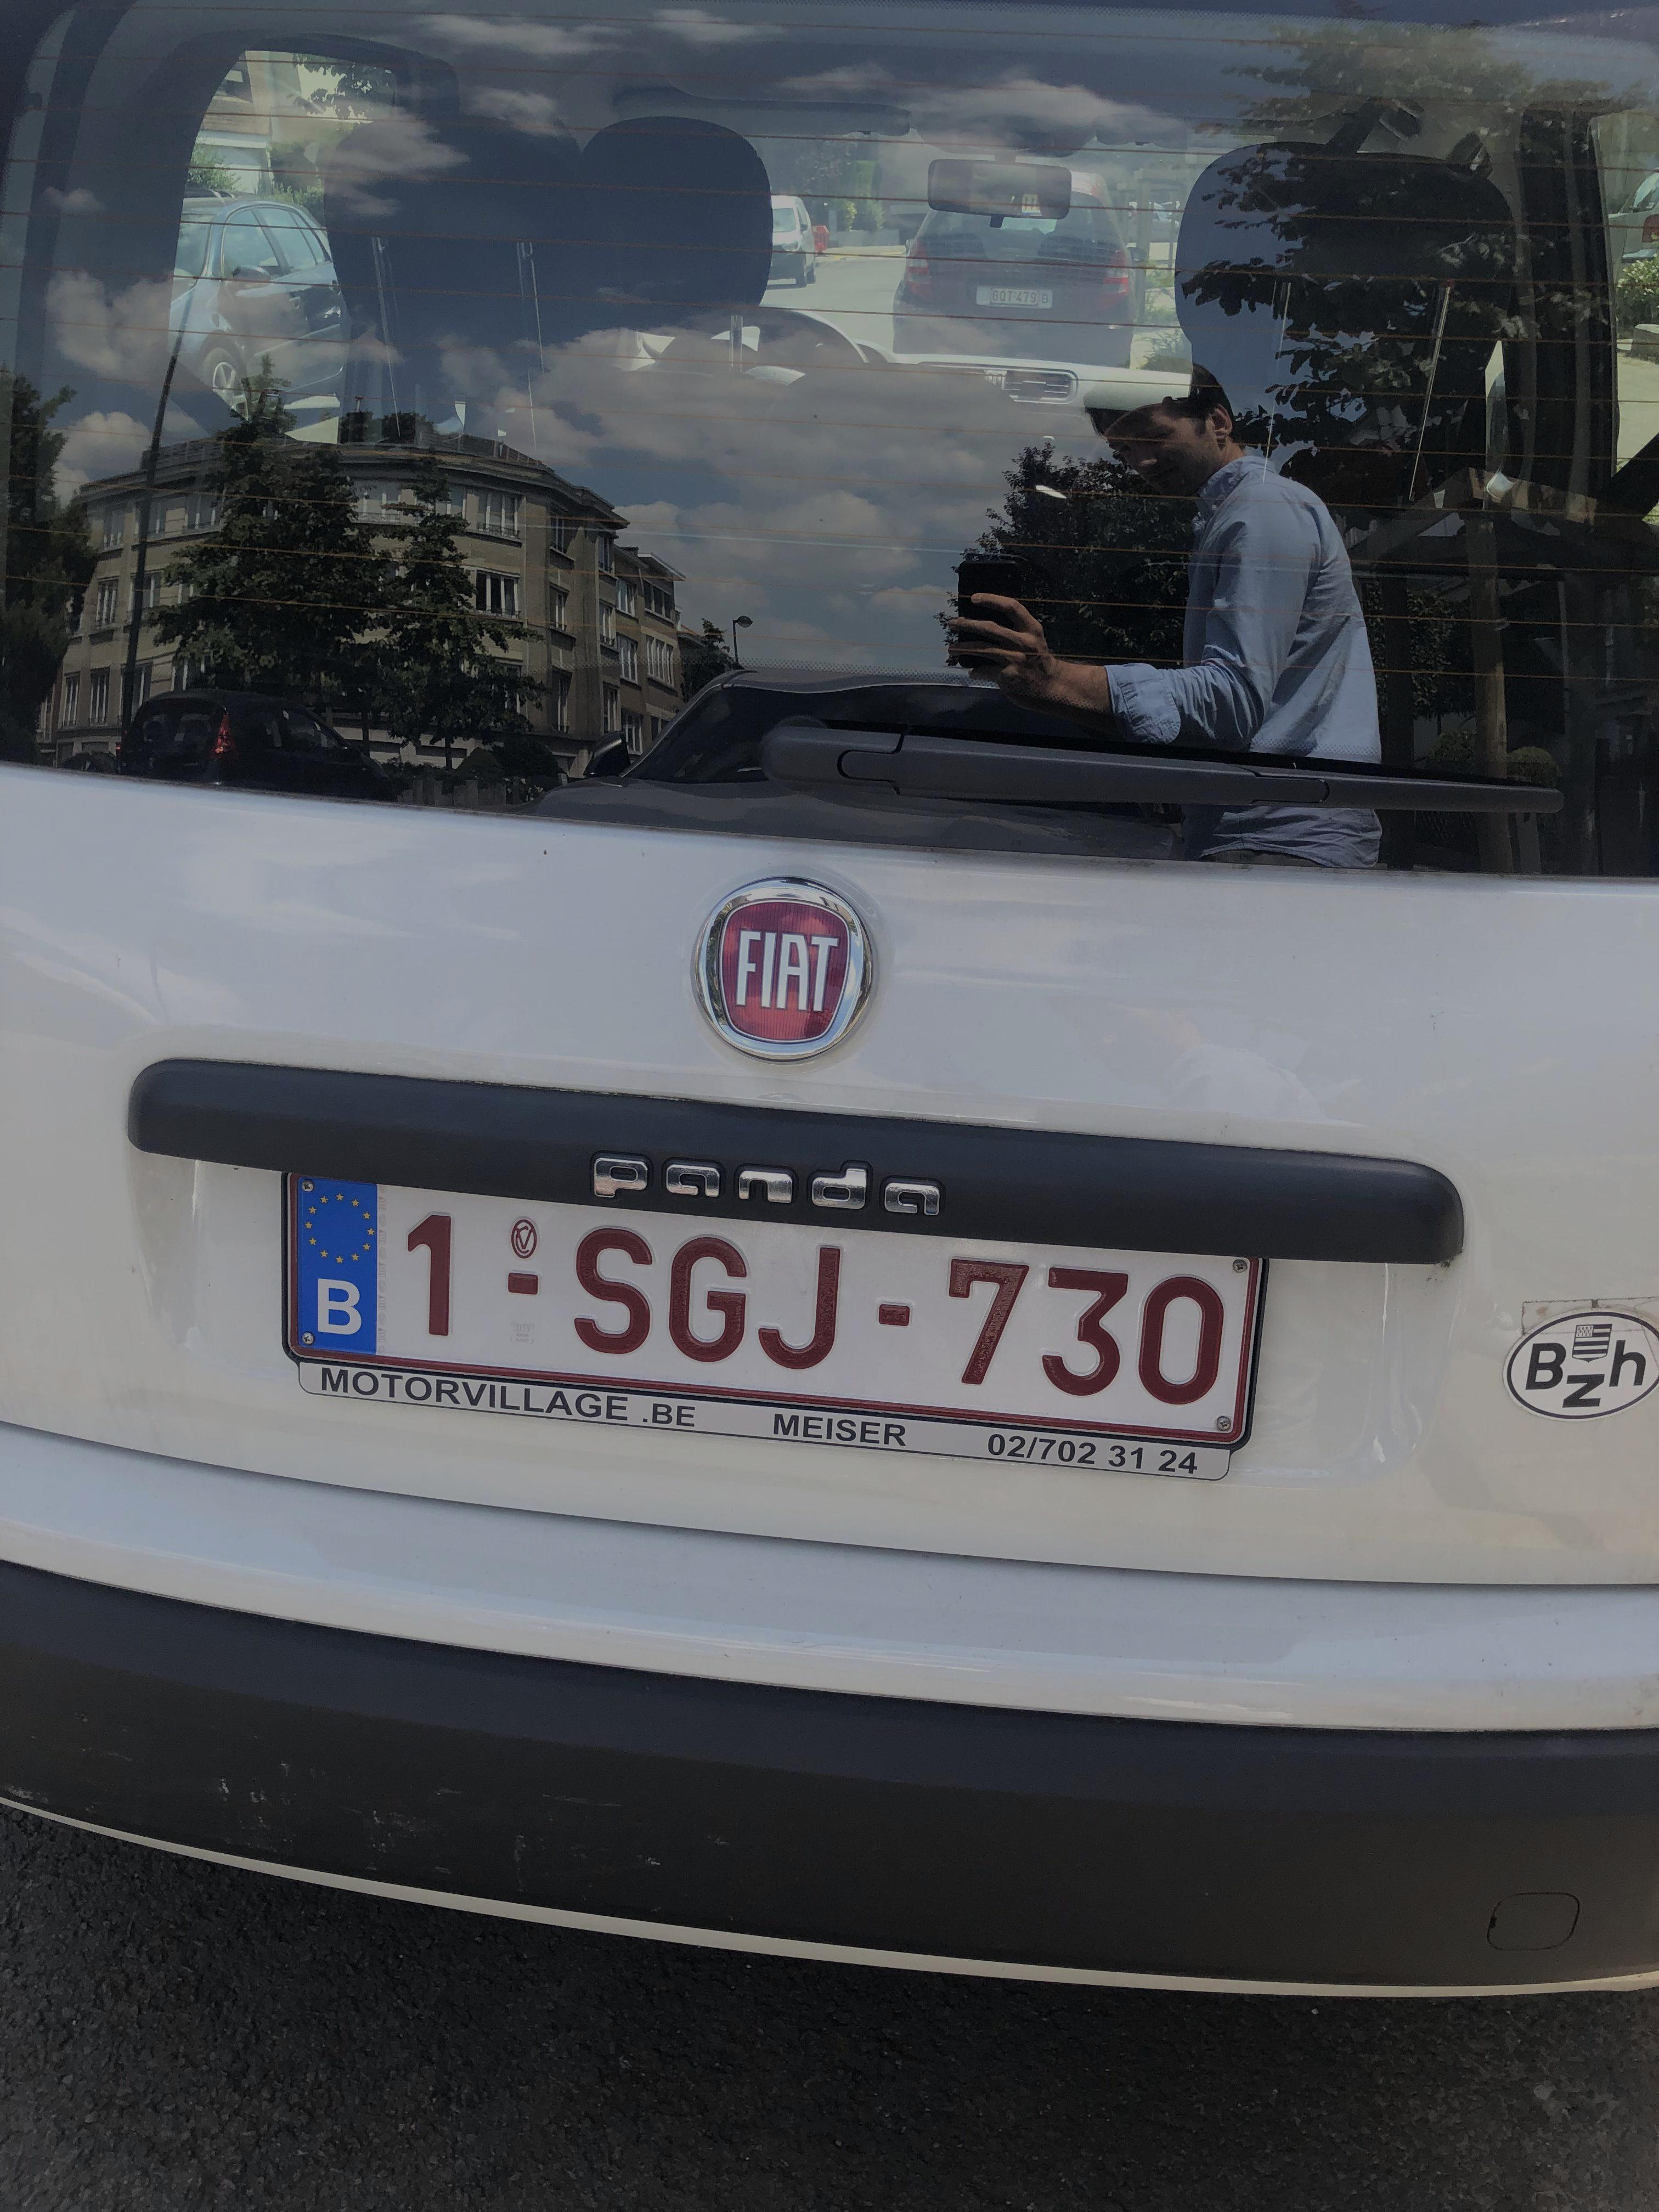plate: (254, 1100, 1299, 1466)
